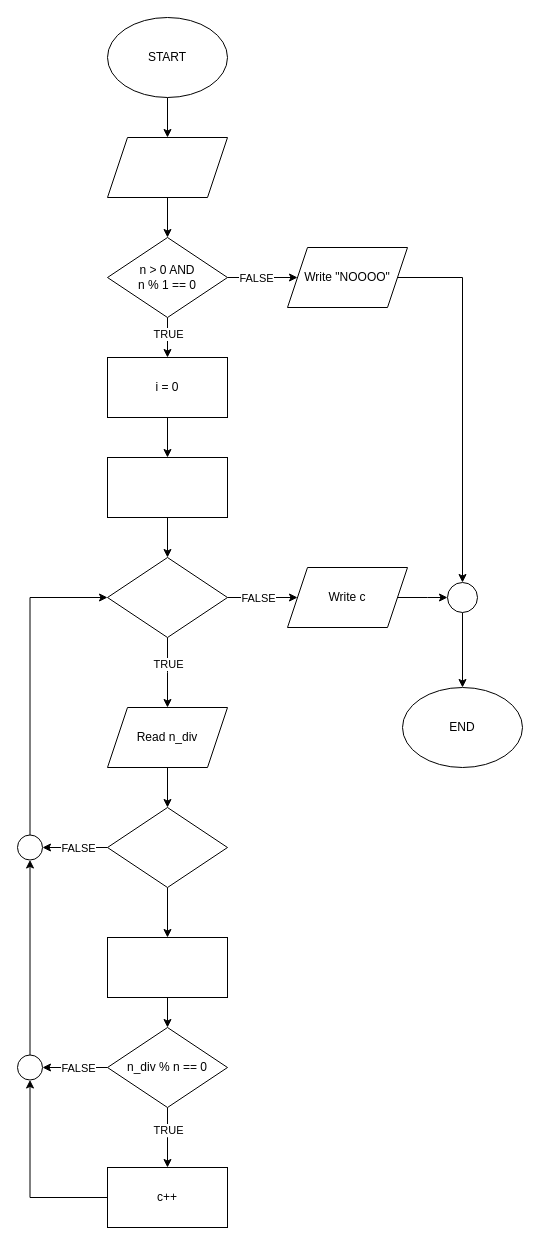
Some shapes in this 540 by 1245 pixel diagram are drawn without their labels. The centre of each missing label's shape, as x and y in pixels:
c = 0: (x=167, y=487)
i += 1: (x=167, y=967)
i < 10: (x=167, y=597)
n_div % 1 == 0: (x=167, y=847)
Read n: (x=167, y=167)
